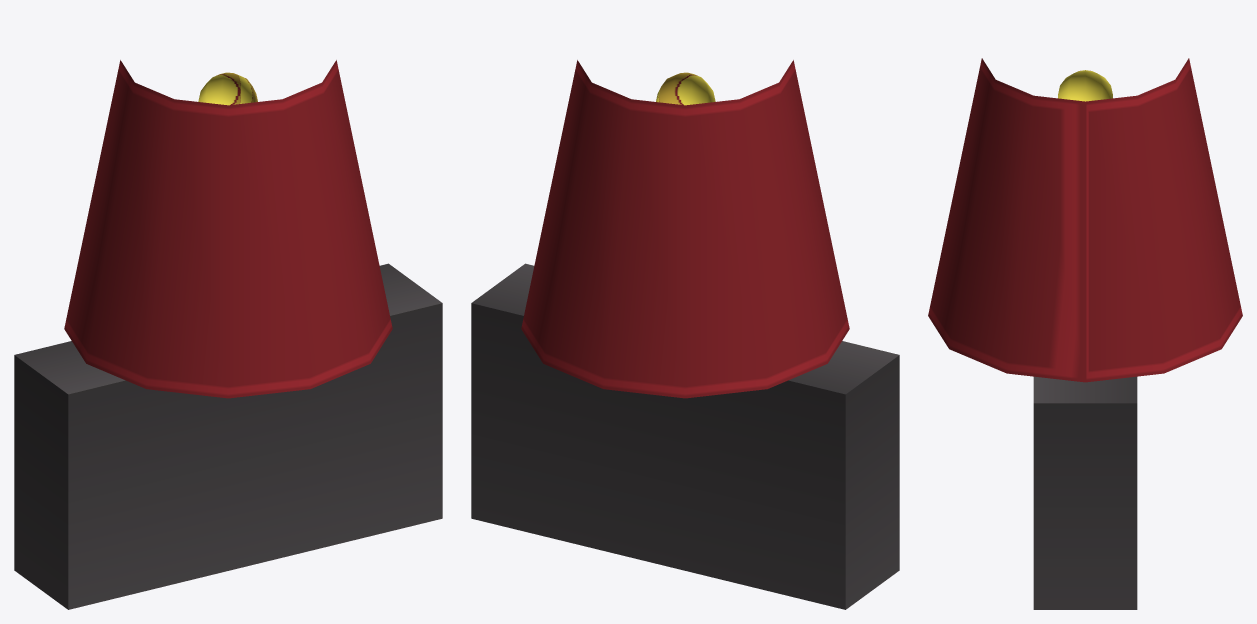
File: heraldic_shield_mount.glb
3 renders of one model, left to right at view 1: azimuth 30°, elevation 25°; view 2: azimuth 150°, elevation 25°; view 3: azimuth 270°, elevation 25°, orthographic. The views are drawn at different scales.
Parts seen in each view (by area): view 1: heraldic_shield_mount; view 2: heraldic_shield_mount; view 3: heraldic_shield_mount.
Boxes of the visible parts, x1=… form: heraldic_shield_mount: x1=14, y1=60, x2=442, y2=609; heraldic_shield_mount: x1=471, y1=60, x2=899, y2=609; heraldic_shield_mount: x1=928, y1=58, x2=1242, y2=609.
Size of the model in its own units: 0.8 by 0.99 by 0.608.
Materials: 1 (1 with a texture image).
